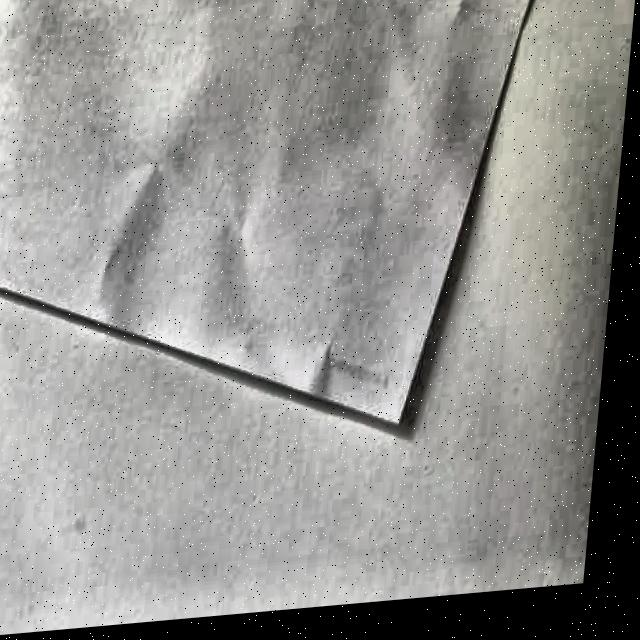paper: (0, 0, 548, 462)
